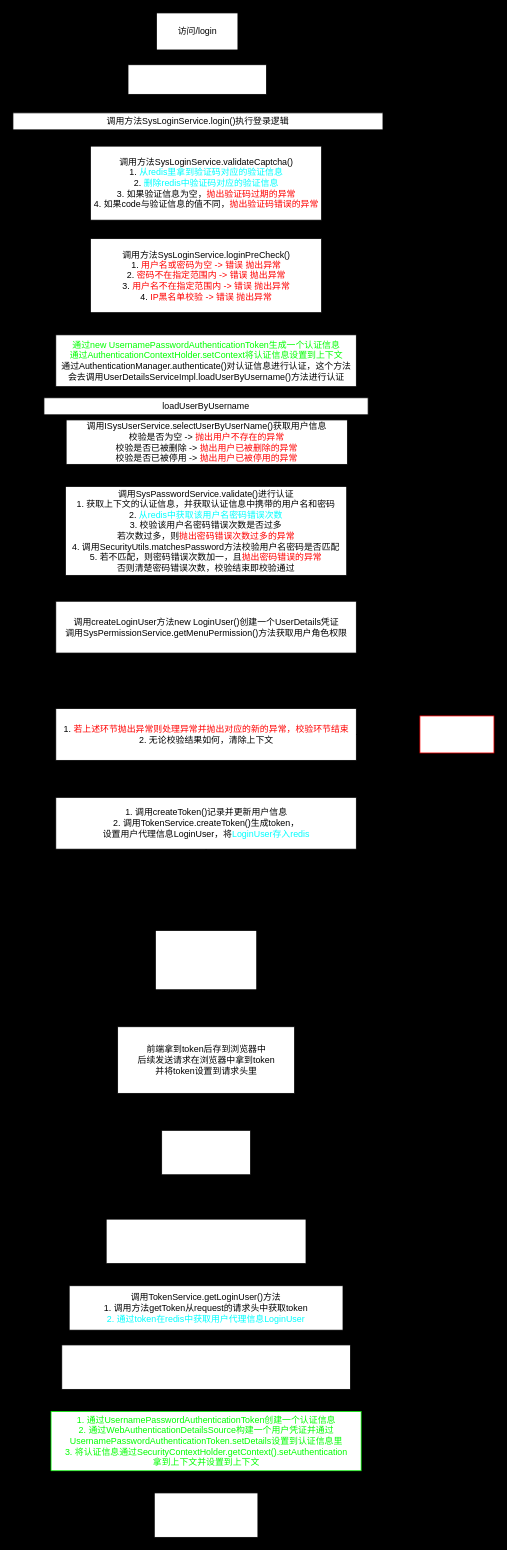
The diagram is 507 pixels wide and 1550 high, and some of its shapes have lost their labels. The centre of each missing label's shape, as x and y in pixels:
Token认证: point (205, 1152)
判断用户凭证是非空并且判断上下文认证信息为空 调用TokenService.verifyToken()校验token并判断最小时间刷新token: point (205, 1366)
继续过滤 在鉴权系统中会用到上述设置的上下文: point (206, 1514)
被SysLoginController.login()捕获: point (196, 79)
触发JwtAuthenticationTokenFilter拦截器 调用doFilterInternal方法进行处理: point (205, 1241)
认证失败: point (456, 734)
认证成功 将Token返回给前端: point (206, 960)
